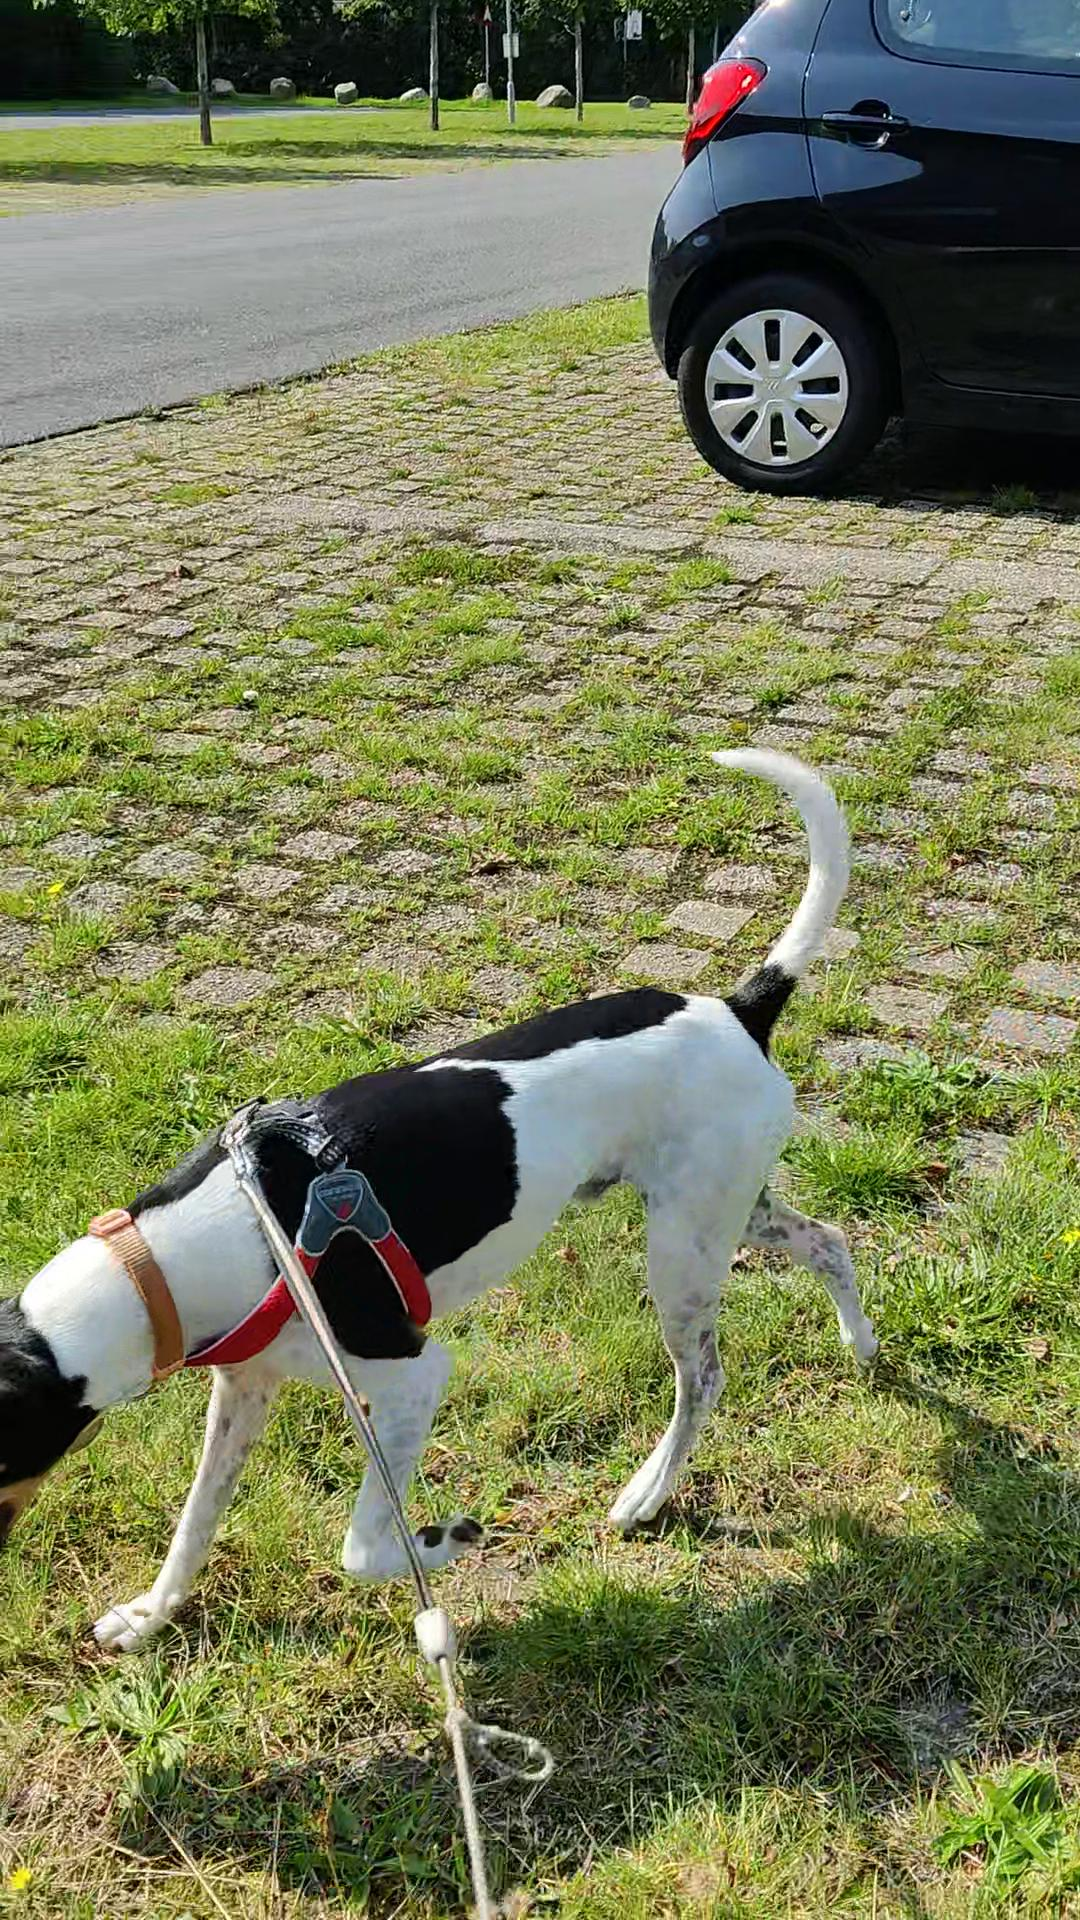Dog: (0, 703, 890, 1660)
